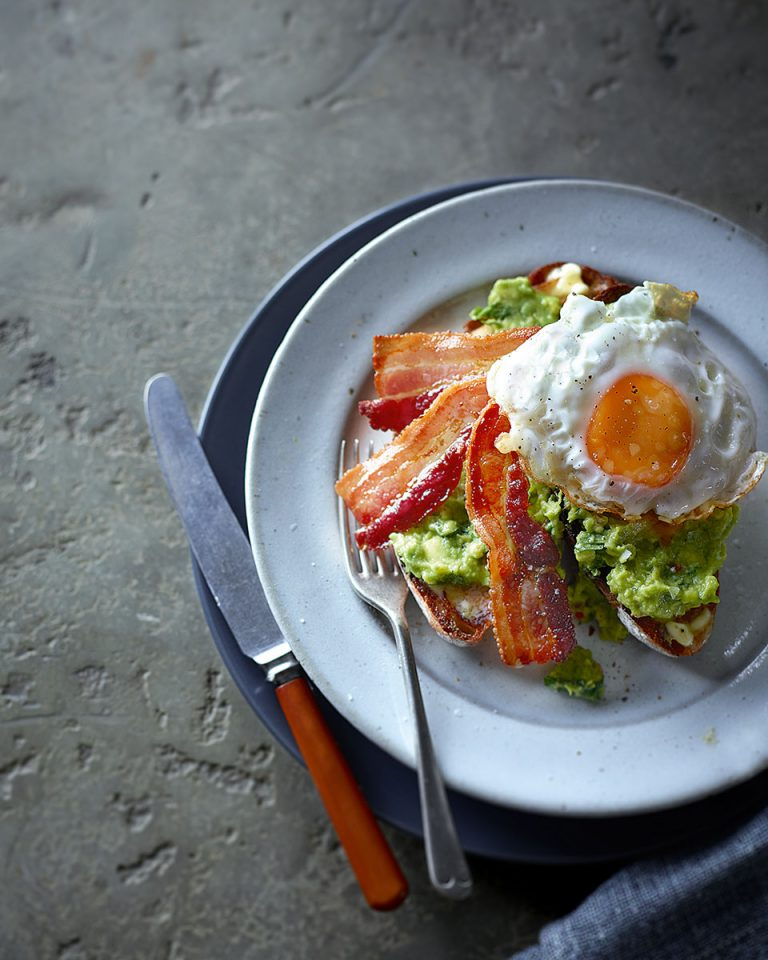fried egg: (504, 316, 763, 515)
